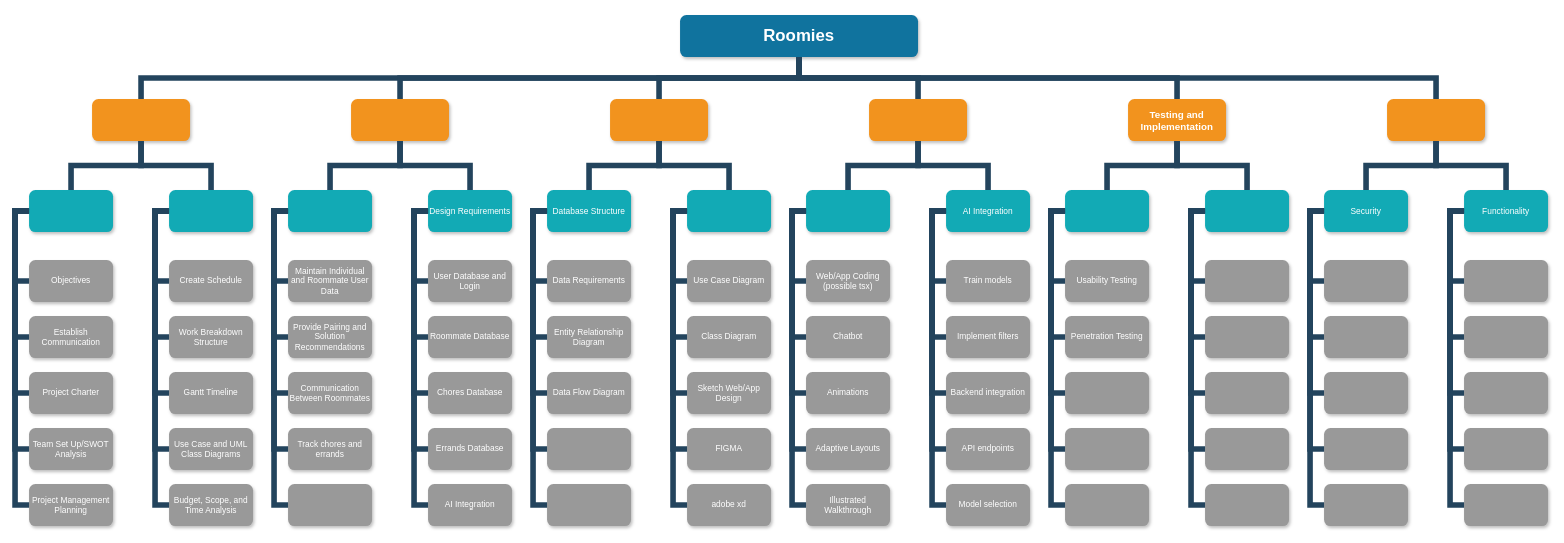
This 1564x543 diagram has some shape labels left out. Each missing label, with the centre of its shape:
"Beta Testing" goes at [1107,212].
"Design" goes at [659,121].
"Detailed Planning" goes at [211,212].
"Development" goes at [918,121].
"Evaluation and Maintenance" goes at [1436,121].
"Function Requirements" goes at [330,212].
"Function Structure" goes at [729,212].
"Graphics and UI" goes at [848,212].
"Initiation" goes at [71,212].
"Launch" goes at [1247,212].
"Project Planning" goes at [141,121].
"Requirements Gathering" goes at [400,121].
